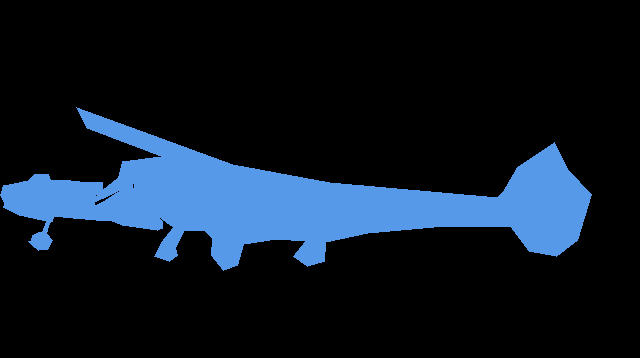Airplane: (76, 107, 591, 270), (0, 174, 162, 250)
